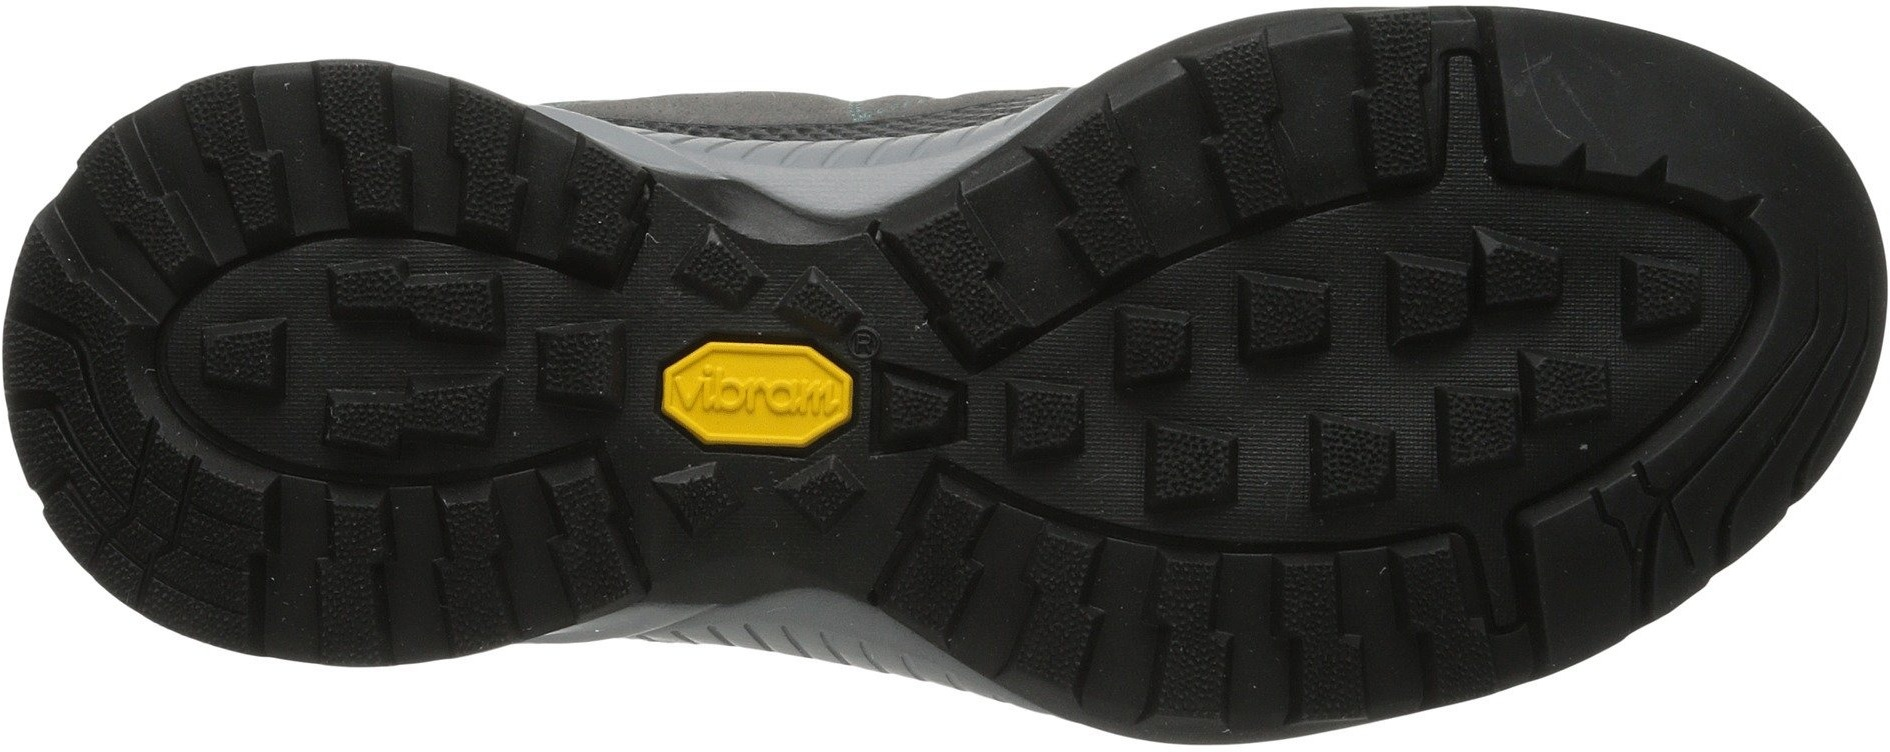other: (1559, 34, 1659, 135)
quad: (1128, 268, 1404, 515), (1417, 205, 1678, 425), (319, 268, 546, 447)
text: (685, 353, 765, 437), (769, 362, 843, 439)
